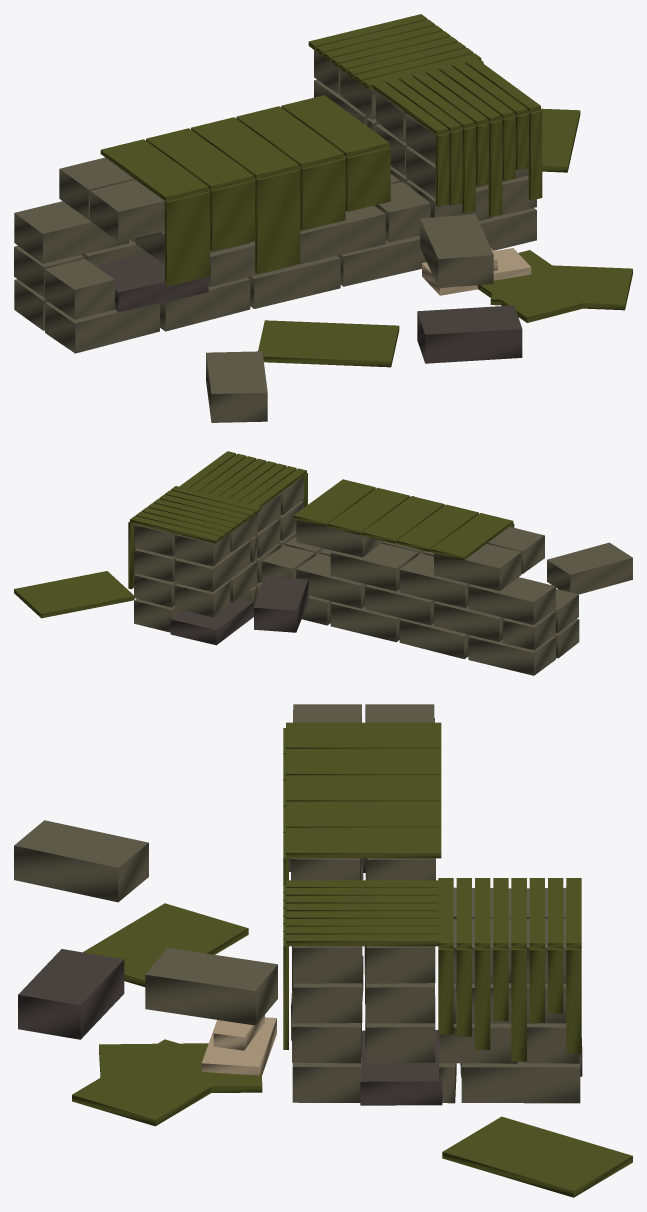
The model's file is SM_SacosRemateEspejo_v4_Red_e1_Danado_LOD0.fbx.
The picture shows the model from 3 angles, top to bottom: view 1: azimuth 30°, elevation 25°; view 2: azimuth 150°, elevation 25°; view 3: azimuth 270°, elevation 25°; orthographic projection. The views are drawn at different scales.
Visible parts, largest first — view 1: SM_sacos_piezas_v37_LOD0; view 2: SM_sacos_piezas_v37_LOD0; view 3: SM_sacos_piezas_v37_LOD0.
Part boxes in pixels (x1,y1,x2,y2): SM_sacos_piezas_v37_LOD0: (14, 14, 632, 422); SM_sacos_piezas_v37_LOD0: (14, 451, 632, 675); SM_sacos_piezas_v37_LOD0: (14, 704, 632, 1197).
Bounding box in the file's own units: 5.88 × 1.24 × 4.23.
